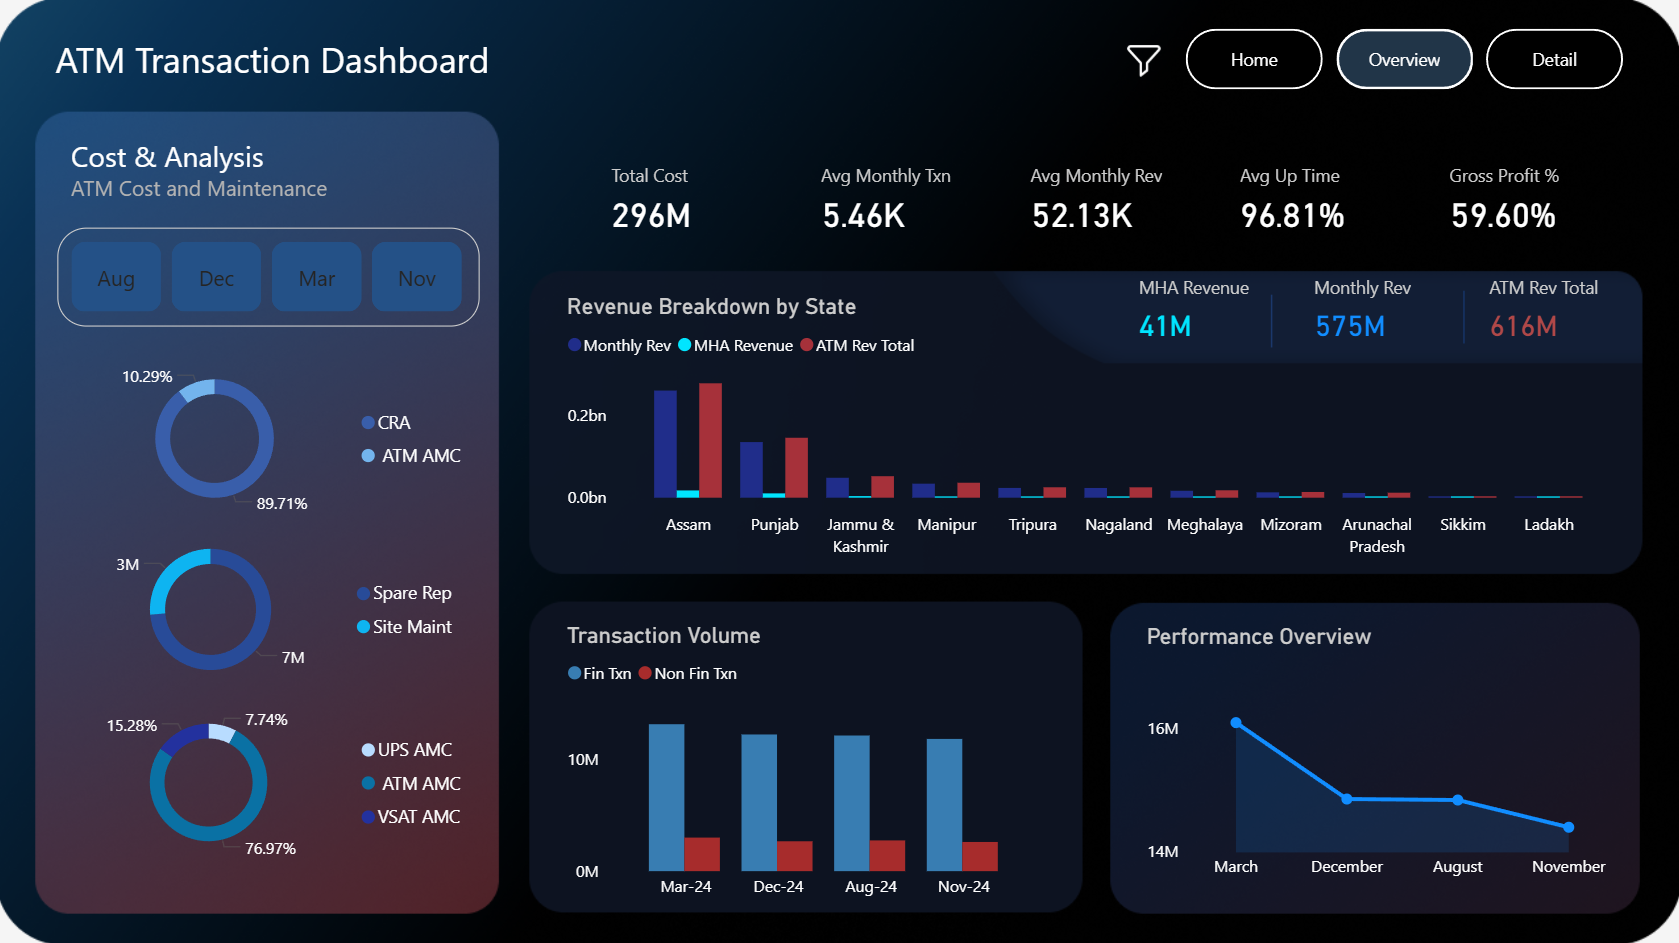

What the dashboard file says about the page in this screenshot:
{"tool":"powerbi","page":{"name":"Overview","canvas":[1280,720],"ordinal":1},"visuals":[{"type":"donutChart","fields":{"Y":["Sum(Dataset.Spare Rep.(UPS))","Sum(Dataset.Site Maint (Non Asset))"]},"box":[48.5,397,312.8,130.4],"z":0},{"type":"donutChart","fields":{"Y":["Sum(Dataset.UPS AMC)","Sum(Dataset.ATM AMC)","Sum(Dataset.VSAT AMC)"]},"box":[41.5,530.9,325.5,125.8],"z":1000},{"type":"donutChart","fields":{"Y":["Sum(Dataset.CRA)","Sum(Dataset.ATM AMC)"]},"box":[51,269.5,316.4,127.4],"z":2000},{"type":"clusteredColumnChart","title":"Revenue Breakdown by State","fields":{"Y":["Sum(Dataset.Monthly Rev)","Sum(Dataset.MHA Revenue)","Sum(Dataset.ATM Rev Total)"],"Category":["Dataset.STATE"]},"box":[428.8,222.7,807.6,207.6],"z":3000},{"type":"clusteredColumnChart","title":"Transaction Volume","fields":{"Category":["Dataset.Month-yr"],"Y":["Sum(Dataset.Fin Txn)","Sum(Dataset.Non Fin Txn)"]},"box":[429.1,472,367.4,219.9],"z":4000},{"type":"lineChart","title":"Performance Overview","fields":{"Y":["Sum(Dataset.Monthly Txn)"],"Category":["Dataset.Month-Year"]},"box":[869.4,472.5,366.9,204.1],"z":5000},{"type":"advancedSlicerVisual","fields":{"Values":["Dataset.Short_Month"]},"box":[46.9,173,320.5,75.1],"z":6000},{"type":"textbox","box":[52.3,97.9,332.5,61.7],"z":7000},{"type":"cardVisual","fields":{"Data":["Sum(Dataset. Total Cost  )","Avg(Dataset.Monthly Txn)","Avg(Dataset.Monthly Rev)","Avg(Dataset.Up Time)","Dataset.Gross Profit Percentage"]},"box":[451.3,113.1,798.7,75],"z":8000},{"type":"cardVisual","title":"Title","fields":{"Data":["Sum(Dataset.MHA Revenue)","Sum(Dataset.Monthly Rev)","Sum(Dataset.ATM Rev Total)"]},"box":[850.6,196.2,404,75],"z":9000},{"type":"pageNavigator","box":[903.7,21.5,332.5,46.9],"z":10000},{"type":"textbox","box":[26.5,21.9,472,57.7],"z":11000},{"type":"actionButton","box":[852.9,25.4,38.1,40.4],"z":12000}]}

Visuals, with their boxes in screenshot pixels (x1, y1, x2, y2), scaled from the page's 1280x720 canvas onto the 1679x943 screenshot:
donutChart - Sum(Dataset.Spare Rep.(UPS)) x Sum(Dataset.Site Maint (Non Asset)): bbox=(64, 520, 474, 691)
donutChart - Sum(Dataset.UPS AMC) x Sum(Dataset.ATM AMC): bbox=(54, 695, 481, 860)
donutChart - Sum(Dataset.CRA) x Sum(Dataset.ATM AMC): bbox=(67, 353, 482, 520)
"Revenue Breakdown by State" clusteredColumnChart: bbox=(562, 292, 1622, 564)
"Transaction Volume" clusteredColumnChart: bbox=(563, 618, 1045, 906)
"Performance Overview" lineChart: bbox=(1140, 619, 1622, 886)
advancedSlicerVisual - Dataset.Short_Month: bbox=(62, 227, 482, 325)
textbox: bbox=(69, 128, 505, 209)
cardVisual - Sum(Dataset. Total Cost  ) x Avg(Dataset.Monthly Txn): bbox=(592, 148, 1640, 246)
"Title" cardVisual: bbox=(1116, 257, 1646, 355)
pageNavigator: bbox=(1185, 28, 1622, 90)
textbox: bbox=(35, 29, 654, 104)
actionButton: bbox=(1119, 33, 1169, 86)
